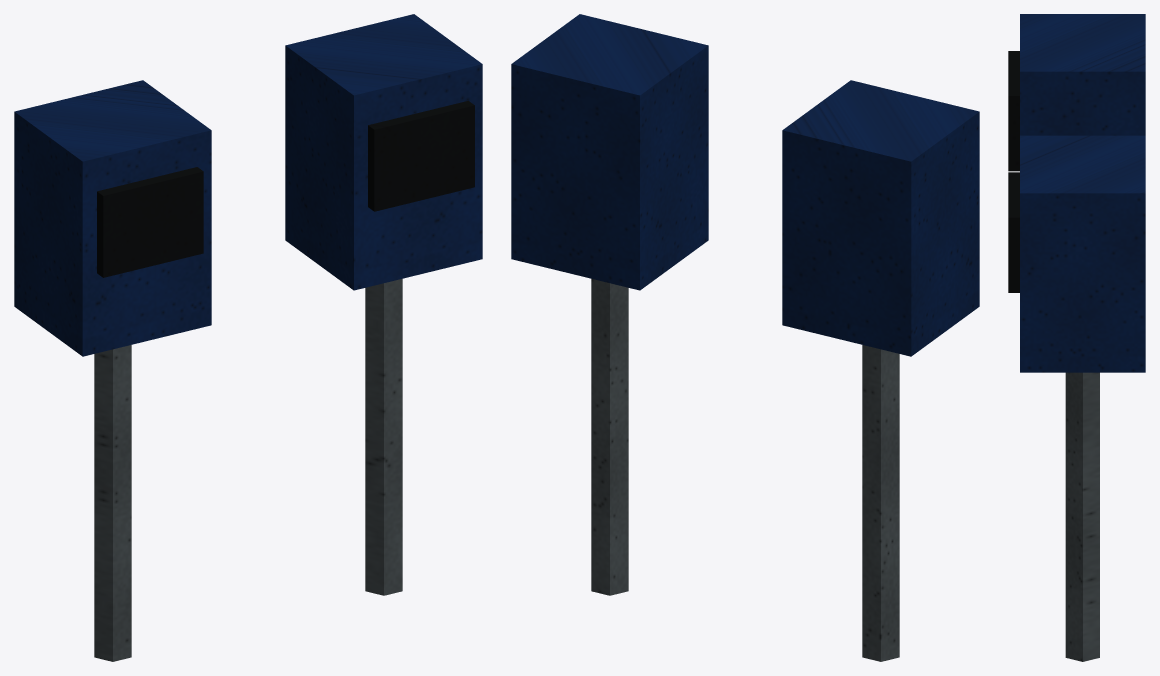
File: PROP-A1C328826BD8_lod2.glb
3 renders of one model, left to right at view 1: azimuth 30°, elevation 25°; view 2: azimuth 150°, elevation 25°; view 3: azimuth 270°, elevation 25°, orthographic. The views are drawn at different scales.
Visible parts, largest first — view 1: cabinet.011, fixture_post.006, recessed_front.011; view 2: cabinet.011, fixture_post.006; view 3: cabinet.011, fixture_post.006, recessed_front.011.
Boxes of the visible parts, x1,y1,x2,y2 form: cabinet.011: (14, 14, 482, 356); fixture_post.006: (94, 278, 402, 661); recessed_front.011: (97, 100, 474, 277); cabinet.011: (511, 14, 979, 356); fixture_post.006: (591, 278, 899, 661); cabinet.011: (1020, 14, 1145, 372); fixture_post.006: (1065, 372, 1099, 661); recessed_front.011: (1008, 51, 1019, 292).
Bounding box in the file's own units: 1.18 × 1.5 × 0.3825.
3 materials, 3 textured.
